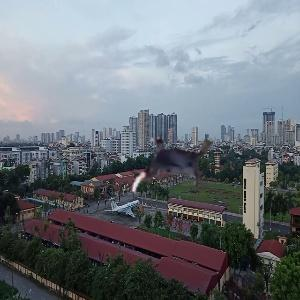drone: (128, 119, 222, 213)
